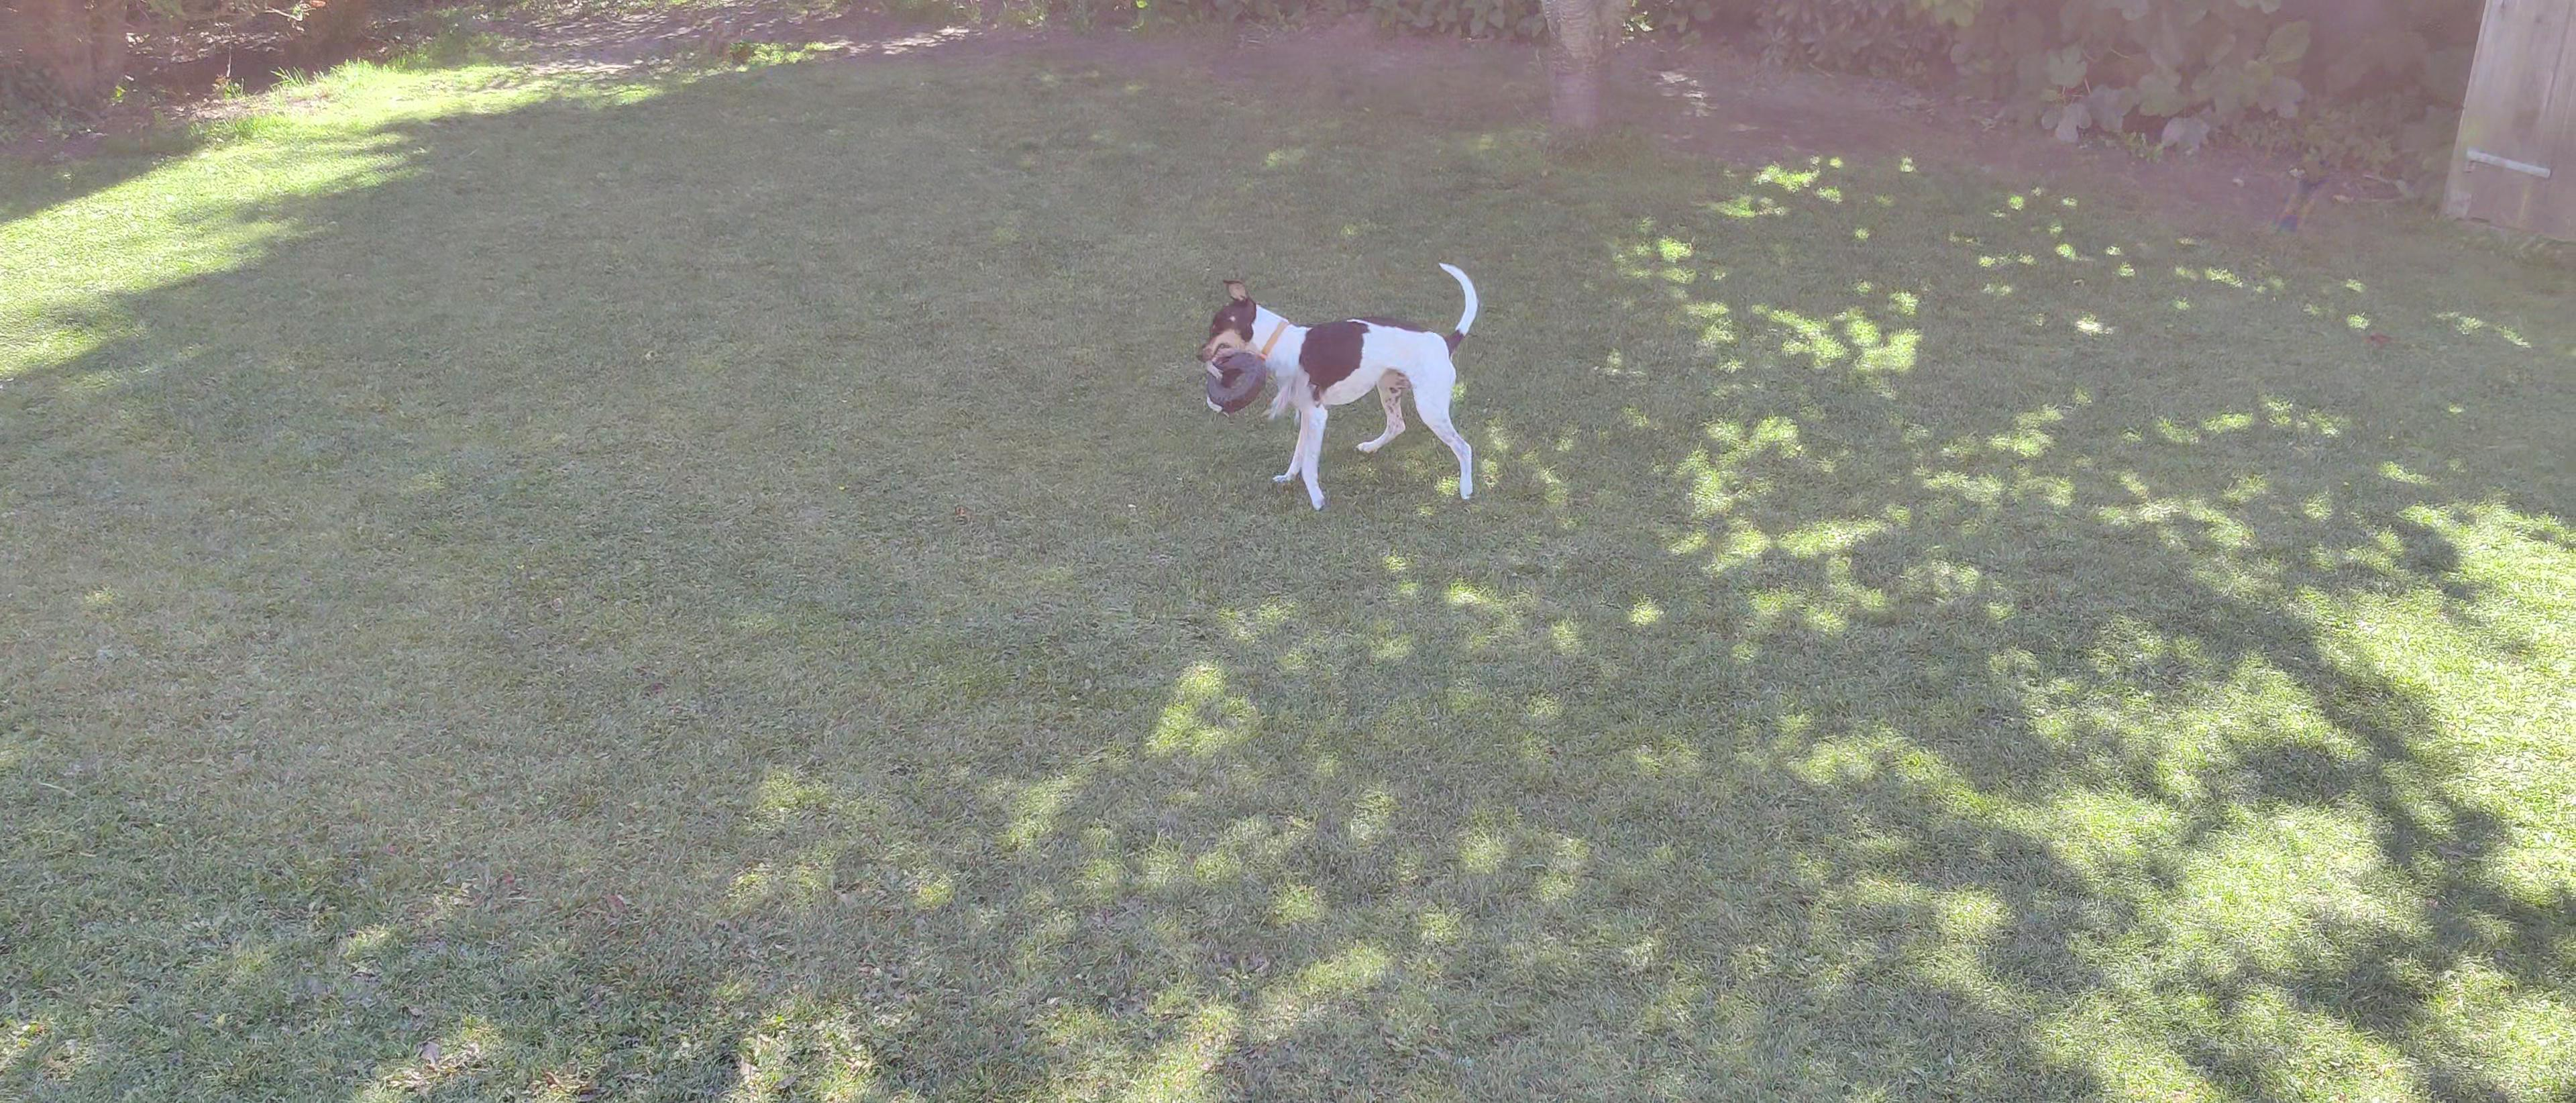Dog: (1180, 233, 1506, 531)
